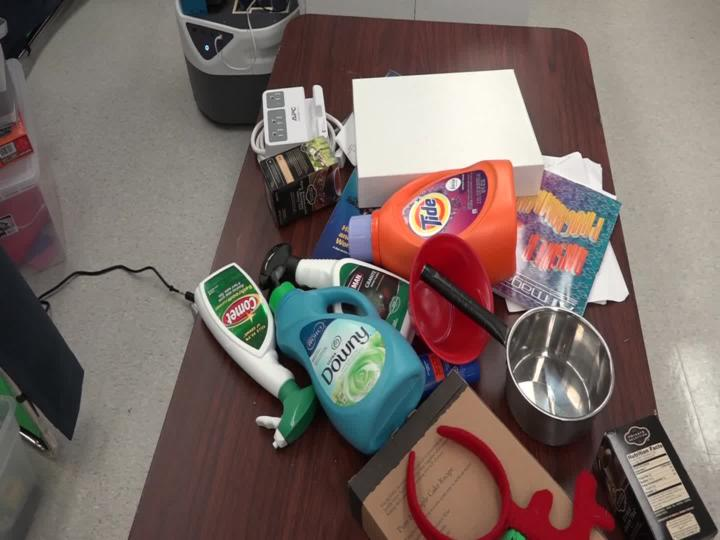tide: (335, 144, 537, 301)
